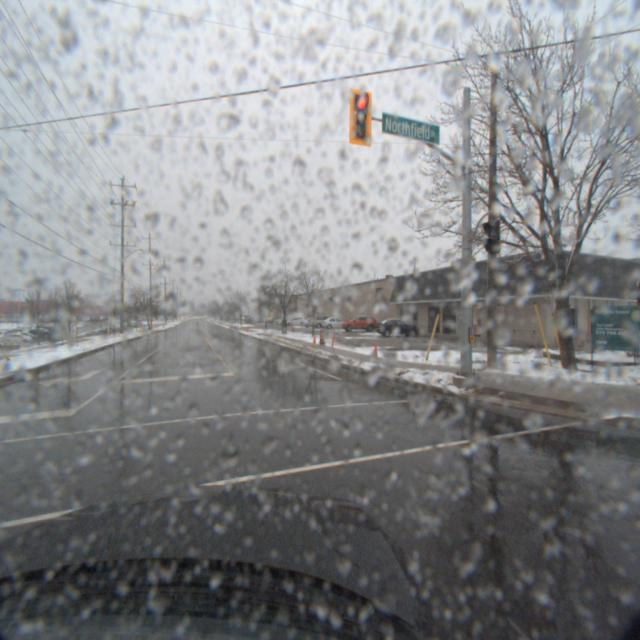Car: (370, 318, 418, 339), (335, 316, 375, 334), (316, 317, 348, 332)
